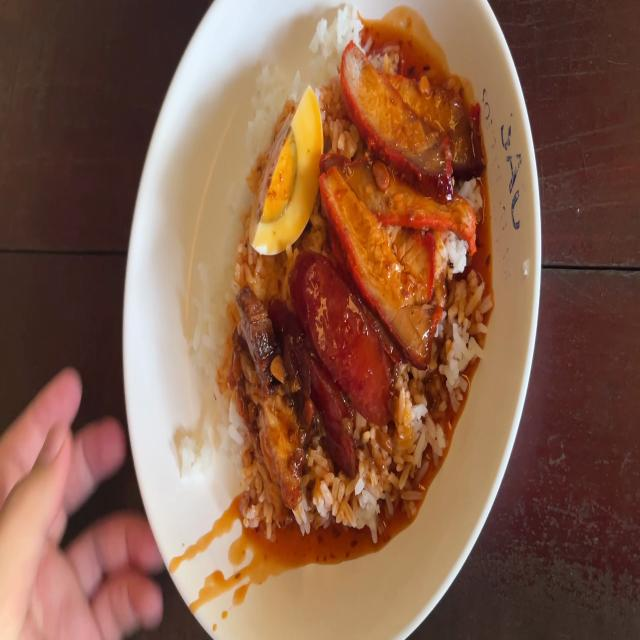red_pork_and_crispy_pork: (252, 93, 321, 249)
stir_fried_basil: (283, 256, 393, 464)
